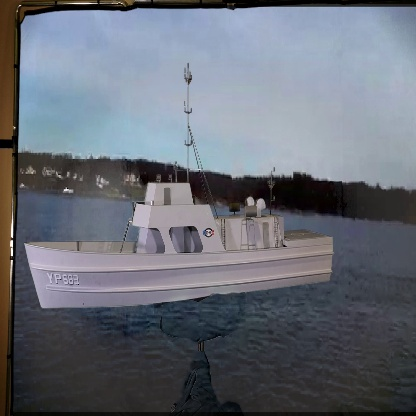YP689: (22, 59, 334, 311)
